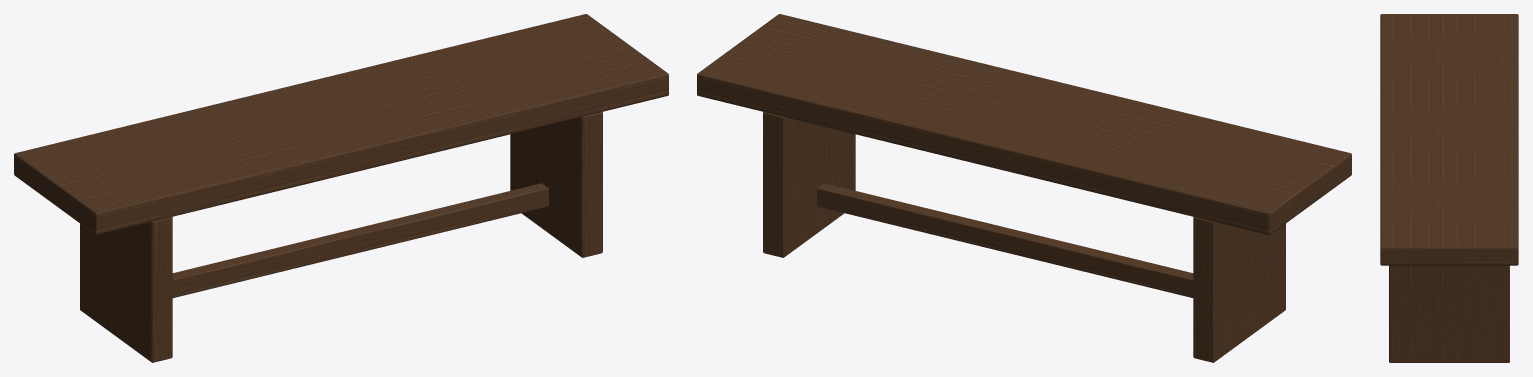
Rendered from decor_c_gallery_bench.gltf.
The picture shows the model from 3 angles, left to right: view 1: azimuth 30°, elevation 25°; view 2: azimuth 150°, elevation 25°; view 3: azimuth 270°, elevation 25°; orthographic projection. The views are drawn at different scales.
Parts seen in each view (by area): view 1: DecorC_GalleryBench_Walnut; view 2: DecorC_GalleryBench_Walnut; view 3: DecorC_GalleryBench_Walnut.
Boxes of the visible parts, x1,y1,x2,y2 form: DecorC_GalleryBench_Walnut: (14,14,668,362); DecorC_GalleryBench_Walnut: (697,14,1351,362); DecorC_GalleryBench_Walnut: (1380,14,1518,362).
Bounding box in the file's own units: 1.6 × 0.45 × 0.4.
Materials: 1 (1 with a texture image).
